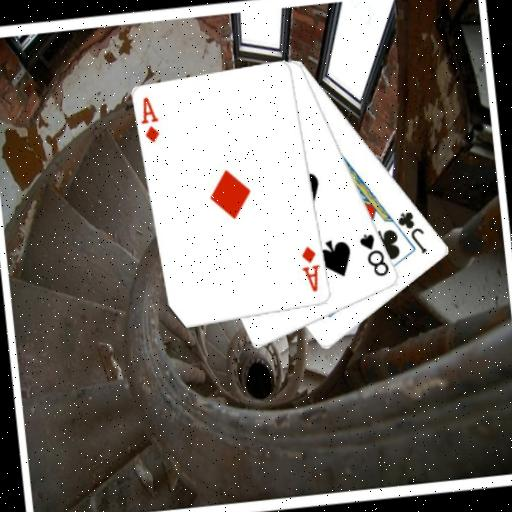8S: (356, 228, 392, 280)
AD: (297, 242, 324, 295), (136, 94, 163, 146)
JC: (394, 207, 430, 258)
